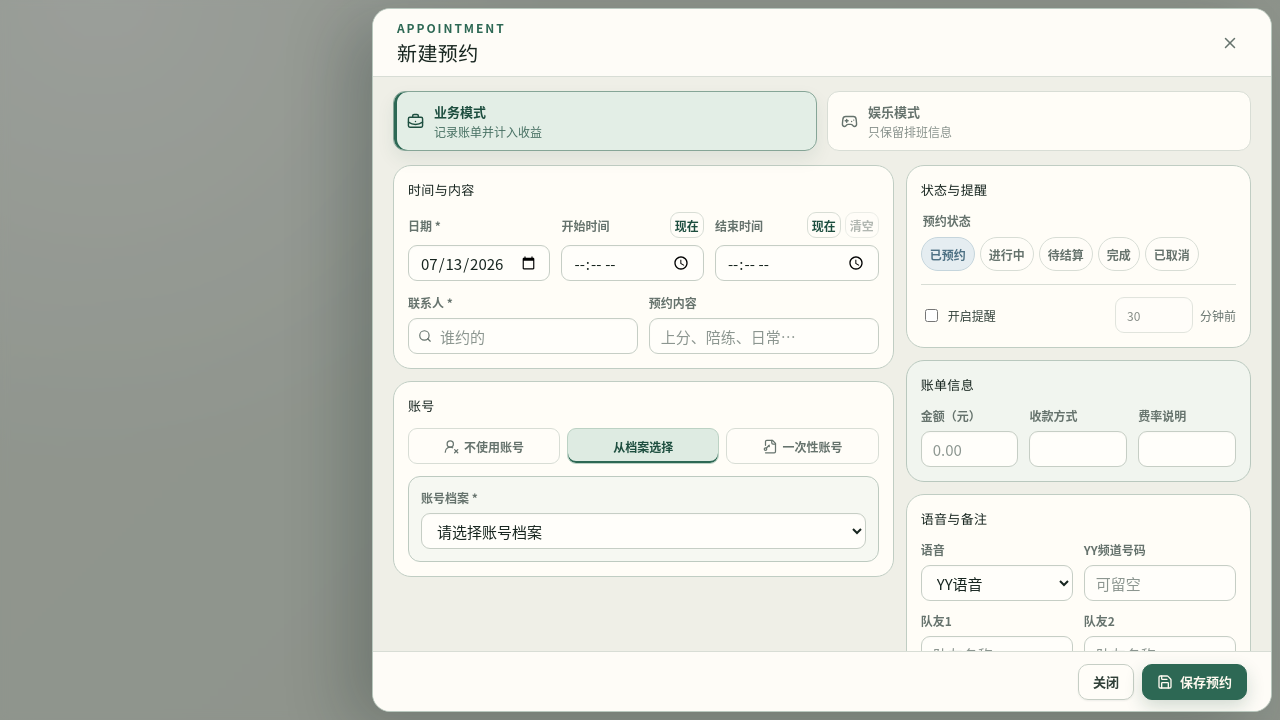
Test: AppointmentDrawer › hides billing fields when entertainment mode is selected
The width and height of the screenshot is (1280, 720).
Click the radio button labelled "娱乐模式 只保留排班信息".
click(894, 112)  # box [827,91,1251,151]
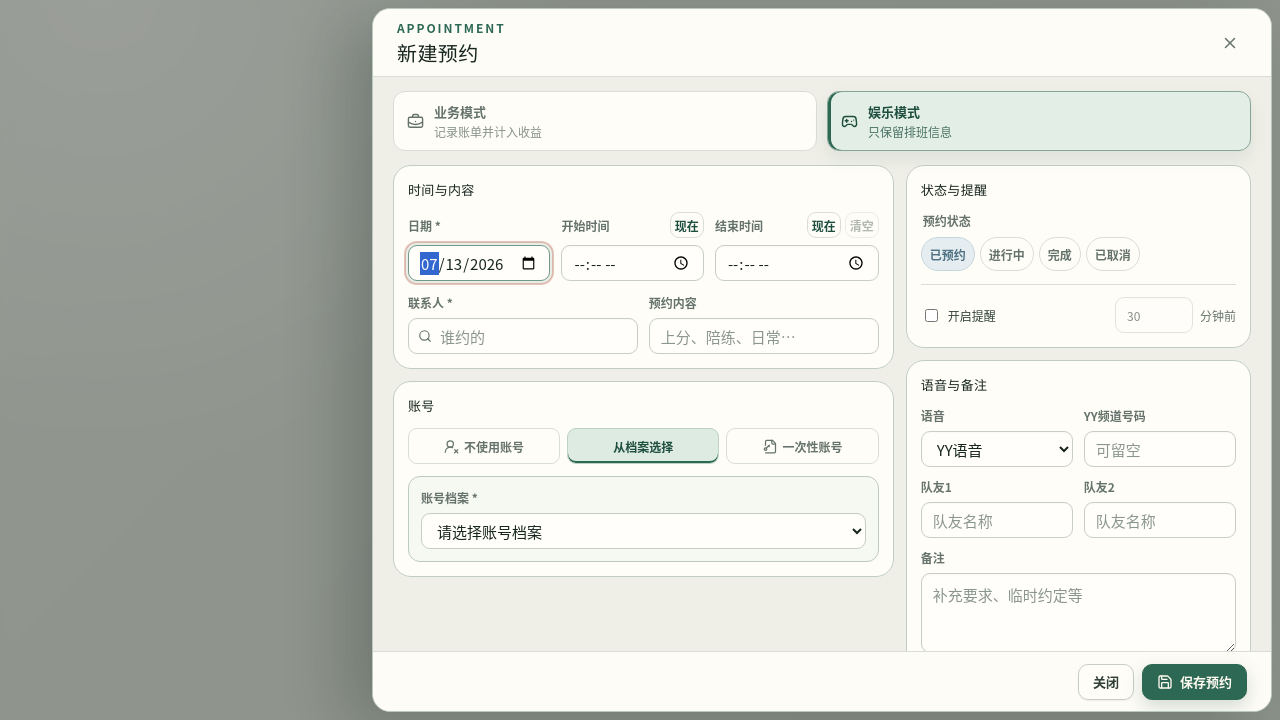
Now the text "账单信息" is gone
